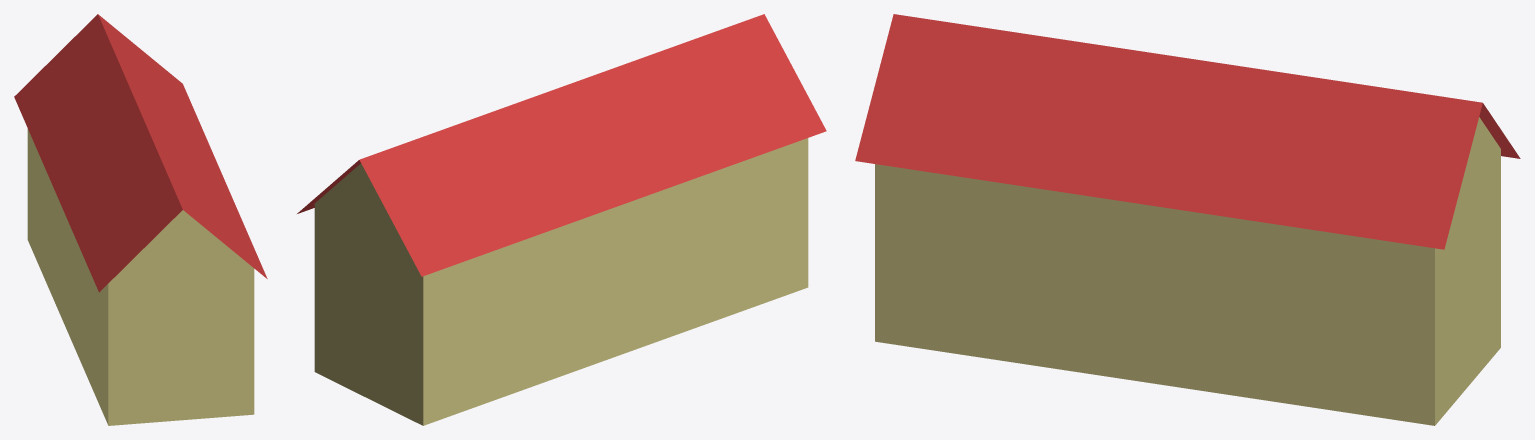
3 views of the same model, side by side, from view 1: azimuth 30°, elevation 25°; view 2: azimuth 150°, elevation 25°; view 3: azimuth 270°, elevation 25° (orthographic). The views are drawn at different scales.
Bounding box in the file's own units: 20.56 × 32.25 × 15.29.
